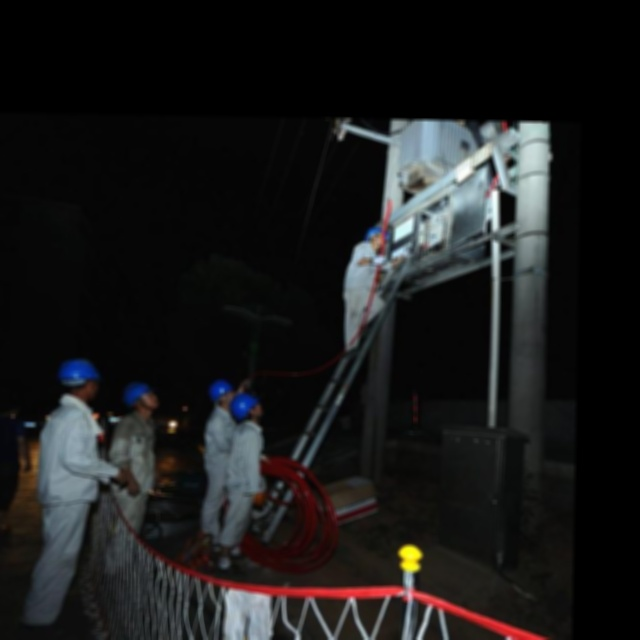Con_Casco: (59, 358, 98, 396), (123, 382, 158, 414)
Sin_Chaleco: (39, 405, 106, 506), (225, 423, 266, 493)
